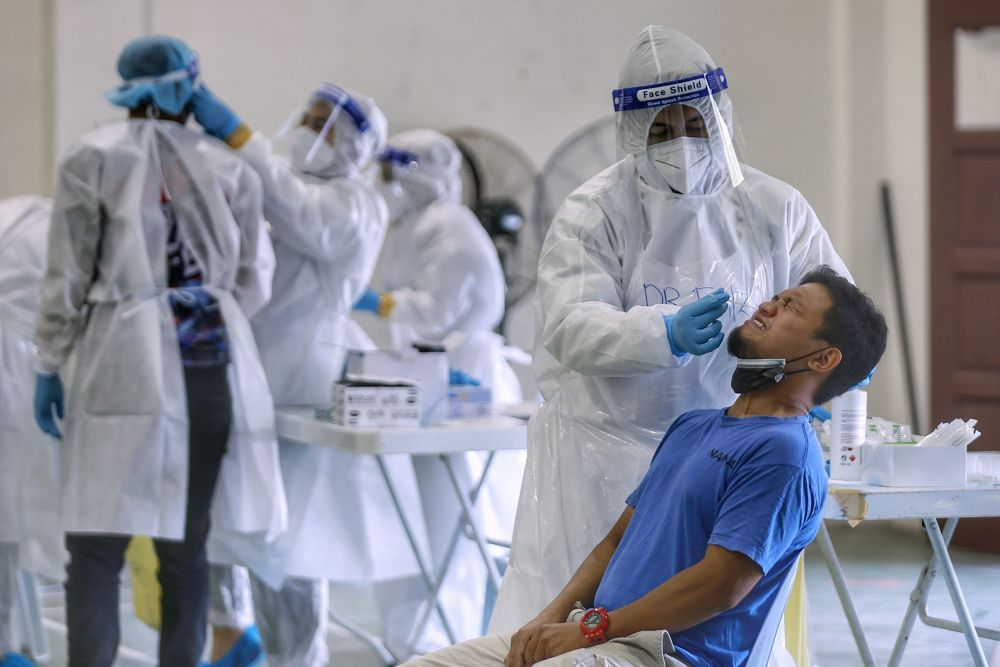Coverall: (483, 28, 852, 650), (190, 84, 389, 667), (346, 123, 520, 572)
Face_Shield: (603, 59, 753, 203), (276, 81, 380, 192)
Gloves: (660, 284, 727, 367), (183, 84, 253, 153), (27, 363, 69, 444)
mask_weared_incorrect: (723, 288, 823, 392)
with_mask: (646, 116, 709, 195), (285, 107, 337, 167)
